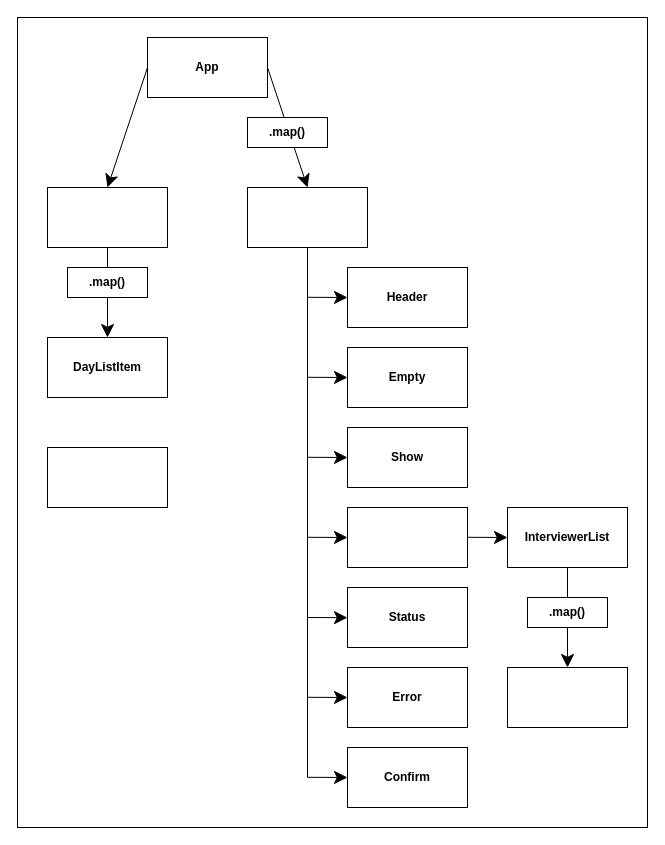
Some shapes in this 665 by 845 pixel diagram are drawn without their labels. The shapes that lost their labels are listed below. From the top down, each one's box as (x1, y1, x2, y2) in pixels, then its label:
(46, 186, 168, 248): DayList
(246, 186, 368, 248): Appointment
(46, 446, 168, 508): Button
(346, 506, 468, 568): Form
(506, 666, 628, 728): InterviewerListItem
